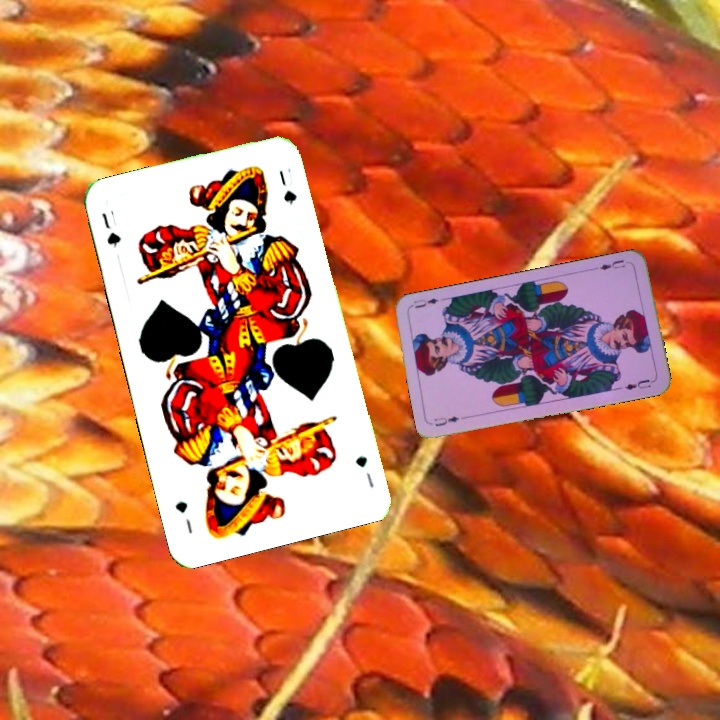EU: (596, 256, 632, 273), (430, 412, 462, 429)
GU: (97, 208, 124, 250), (351, 452, 377, 490)
